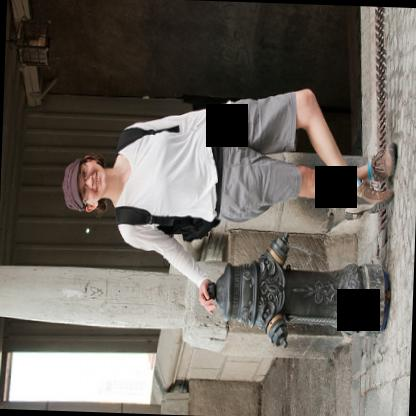backpack: (107, 123, 218, 239)
